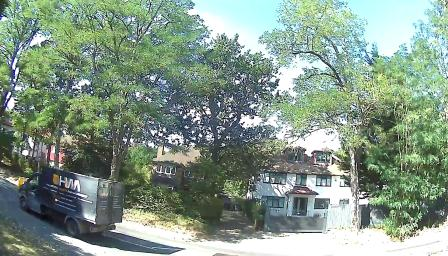Cars: (20, 161, 125, 236)
